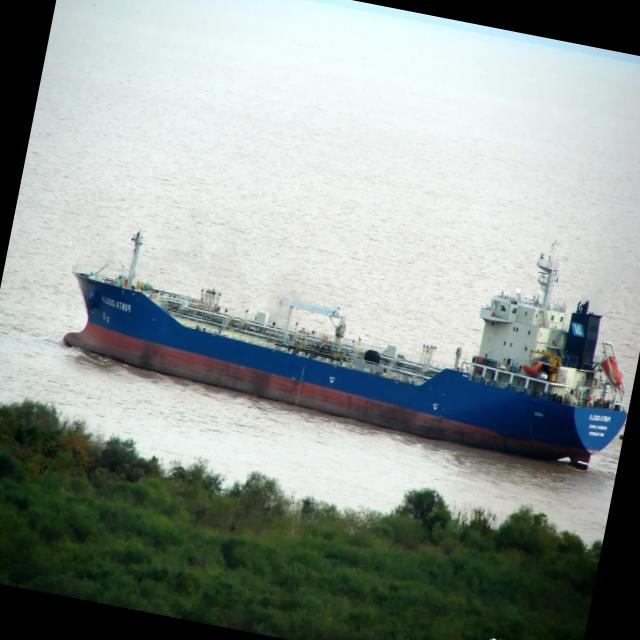Tanker: (64, 237, 628, 470)
